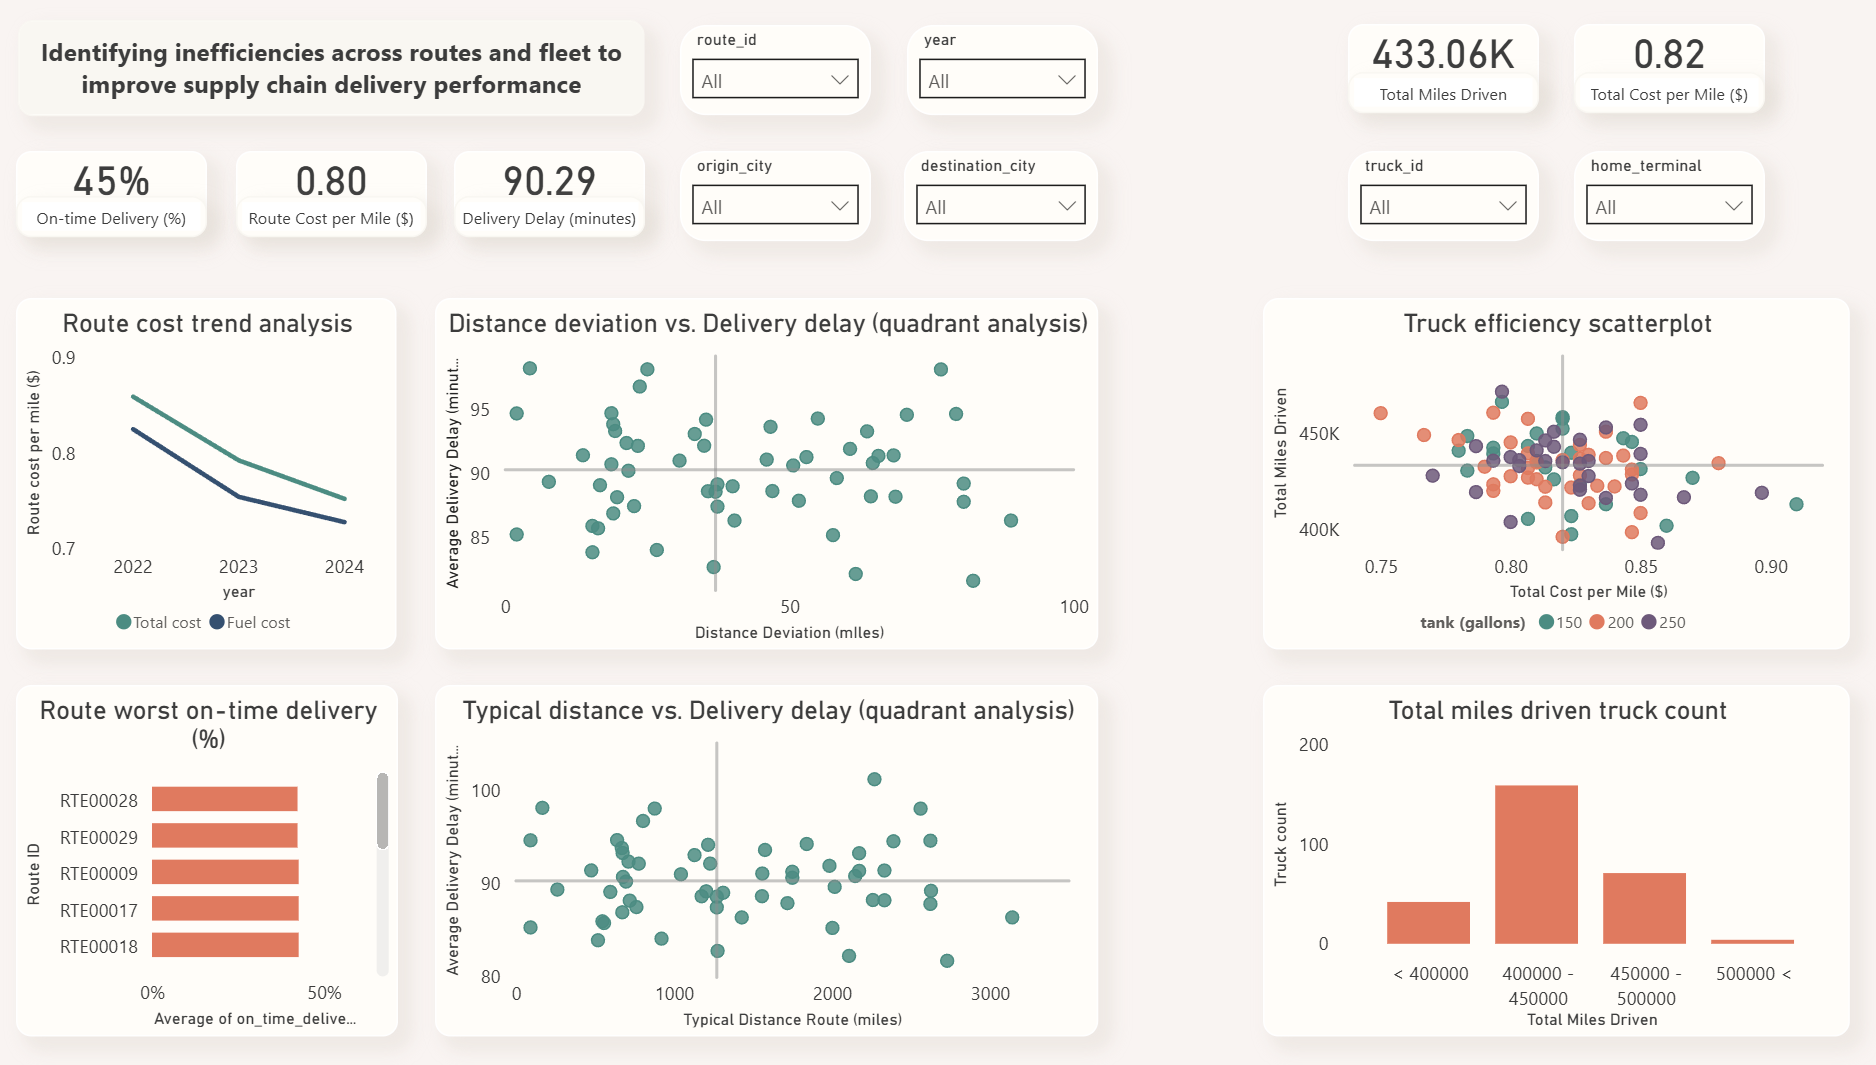

What the dashboard file says about the page in this screenshot:
{"tool":"powerbi","page":{"name":"Page 1","canvas":[1280,720],"ordinal":0},"visuals":[{"type":"card","title":"On-Time Delivery %","fields":{"Values":["Avg(public fact_route_serivce_year.on_time_delivery_pct)"]},"box":[48.3,106,124.8,49.8],"z":0},{"type":"shape","box":[48.3,135.6,124.8,26.7],"z":1000},{"type":"lineChart","title":"Route cost trend analysis","fields":{"Category":["public dim_date.year"],"Y":["Avg(public fact_route_cost_year.total_cost_per_mile_route)","Avg(public fact_route_cost_year.fuel_cost_per_mile_route)"]},"box":[48.4,202.2,248.7,230.3],"z":2000},{"type":"scatterChart","title":"Truck efficiency scatterplot","fields":{"X":["Avg(public fact_truck_cost_year.cost_per_mile)"],"Y":["Avg(public fact_truck_cost_year.total_miles_driven)"],"Category":["public fact_truck_cost_year.truck_id"],"Series":["public dim_trucks.tank_capacity_gallons"]},"box":[864.5,202.2,384.1,230.3],"z":3000},{"type":"clusteredColumnChart","title":"Total miles driven truck count","fields":{"Category":["public fact_truck_cost_year.total_miles_driven (groups)"],"Y":["CountNonNull(public fact_truck_cost_year.truck_id)"]},"box":[864.5,455.5,384.1,230.3],"z":4000},{"type":"clusteredBarChart","title":"Route worst on-time delivery (%)","fields":{"Y":["Avg(public fact_route_serivce_year.on_time_delivery_pct)"],"Category":["public fact_route_serivce_year.route_id"]},"box":[48.4,455.5,250,229.7],"z":5000},{"type":"scatterChart","title":"Distance deviation vs. Delivery delay (quadrant analysis)","fields":{"X":["Avg(public fact_route_serivce_year.avg_distance_deviation)"],"Y":["Avg(public fact_route_serivce_year.avg_delivery_delay_minutes)"],"Category":["public dim_routes.route_id"]},"box":[322.6,202.2,433.9,230.3],"z":6000},{"type":"scatterChart","title":"Typical distance vs. Delivery delay (quadrant analysis)","fields":{"X":["Sum(public dim_routes.typical_distance_miles)"],"Y":["Avg(public fact_route_serivce_year.avg_delivery_delay_minutes)"],"Category":["public dim_routes.route_id"]},"box":[322.6,455.5,433.9,230.3],"z":7000},{"type":"actionButton","box":[0,0,100,40],"z":8000},{"type":"slicer","fields":{"Values":["public dim_routes.origin_city"]},"box":[483.2,106,124.8,59.1],"z":9000},{"type":"slicer","fields":{"Values":["public dim_routes.destination_city"]},"box":[629.5,106,126.9,59.1],"z":10000},{"type":"card","title":"On-Time Delivery %","fields":{"Values":["Avg(public fact_route_cost_year.total_cost_per_mile_route)"]},"box":[192.5,106,124.8,49.8],"z":11000},{"type":"shape","box":[192.5,135.6,124.8,26.7],"z":12000},{"type":"card","title":"On-Time Delivery %","fields":{"Values":["Avg(public fact_route_serivce_year.avg_delivery_delay_minutes)"]},"box":[335.3,106,124.8,49.8],"z":13000},{"type":"shape","box":[335.3,135.6,124.8,26.7],"z":14000},{"type":"shape","title":"Titel komt hier","box":[49.8,20.2,410.3,62.7],"z":15000},{"type":"slicer","fields":{"Values":["public dim_trucks.home_terminal"]},"box":[1068,106,124.8,59.1],"z":16000},{"type":"card","title":"On-Time Delivery %","fields":{"Values":["Avg(public fact_truck_cost_year.total_miles_driven)"]},"box":[920,23,124.8,49.8],"z":17000},{"type":"shape","box":[920,54,124.8,26.7],"z":18000},{"type":"slicer","fields":{"Values":["public dim_routes.route_id"]},"box":[483.2,23.8,124.8,59.1],"z":19000},{"type":"slicer","fields":{"Values":["public dim_date.year"]},"box":[631.7,23.8,124.8,59.1],"z":20000},{"type":"slicer","fields":{"Values":["public fact_truck_cost_year.truck_id"]},"box":[920,106,124.8,59.1],"z":21000},{"type":"card","title":"On-Time Delivery %","fields":{"Values":["Avg(public fact_truck_cost_year.cost_per_mile)"]},"box":[1068,23,124.8,49.8],"z":22000},{"type":"shape","box":[1068,54,124.8,26.7],"z":23000}]}

Visuals, with their boxes in screenshot pixels (x1, y1, x2, y2), scaled from the page's 1280x720 canvas onto the 1876x1065 screenshot:
"On-Time Delivery %" card: x1=71, y1=157, x2=254, y2=230
shape: x1=71, y1=201, x2=254, y2=240
"Route cost trend analysis" lineChart: x1=71, y1=299, x2=435, y2=640
"Truck efficiency scatterplot" scatterChart: x1=1267, y1=299, x2=1830, y2=640
"Total miles driven truck count" clusteredColumnChart: x1=1267, y1=674, x2=1830, y2=1014
"Route worst on-time delivery (%)" clusteredBarChart: x1=71, y1=674, x2=437, y2=1014
"Distance deviation vs. Delivery delay (quadrant analysis)" scatterChart: x1=473, y1=299, x2=1109, y2=640
"Typical distance vs. Delivery delay (quadrant analysis)" scatterChart: x1=473, y1=674, x2=1109, y2=1014
actionButton: x1=0, y1=0, x2=147, y2=59
slicer - public dim_routes.origin_city: x1=708, y1=157, x2=891, y2=244
slicer - public dim_routes.destination_city: x1=923, y1=157, x2=1109, y2=244
"On-Time Delivery %" card: x1=282, y1=157, x2=465, y2=230
shape: x1=282, y1=201, x2=465, y2=240
"On-Time Delivery %" card: x1=491, y1=157, x2=674, y2=230
shape: x1=491, y1=201, x2=674, y2=240
"Titel komt hier" shape: x1=73, y1=30, x2=674, y2=123
slicer - public dim_trucks.home_terminal: x1=1565, y1=157, x2=1748, y2=244
"On-Time Delivery %" card: x1=1348, y1=34, x2=1531, y2=108
shape: x1=1348, y1=80, x2=1531, y2=119
slicer - public dim_routes.route_id: x1=708, y1=35, x2=891, y2=123
slicer - public dim_date.year: x1=926, y1=35, x2=1109, y2=123
slicer - public fact_truck_cost_year.truck_id: x1=1348, y1=157, x2=1531, y2=244
"On-Time Delivery %" card: x1=1565, y1=34, x2=1748, y2=108
shape: x1=1565, y1=80, x2=1748, y2=119
